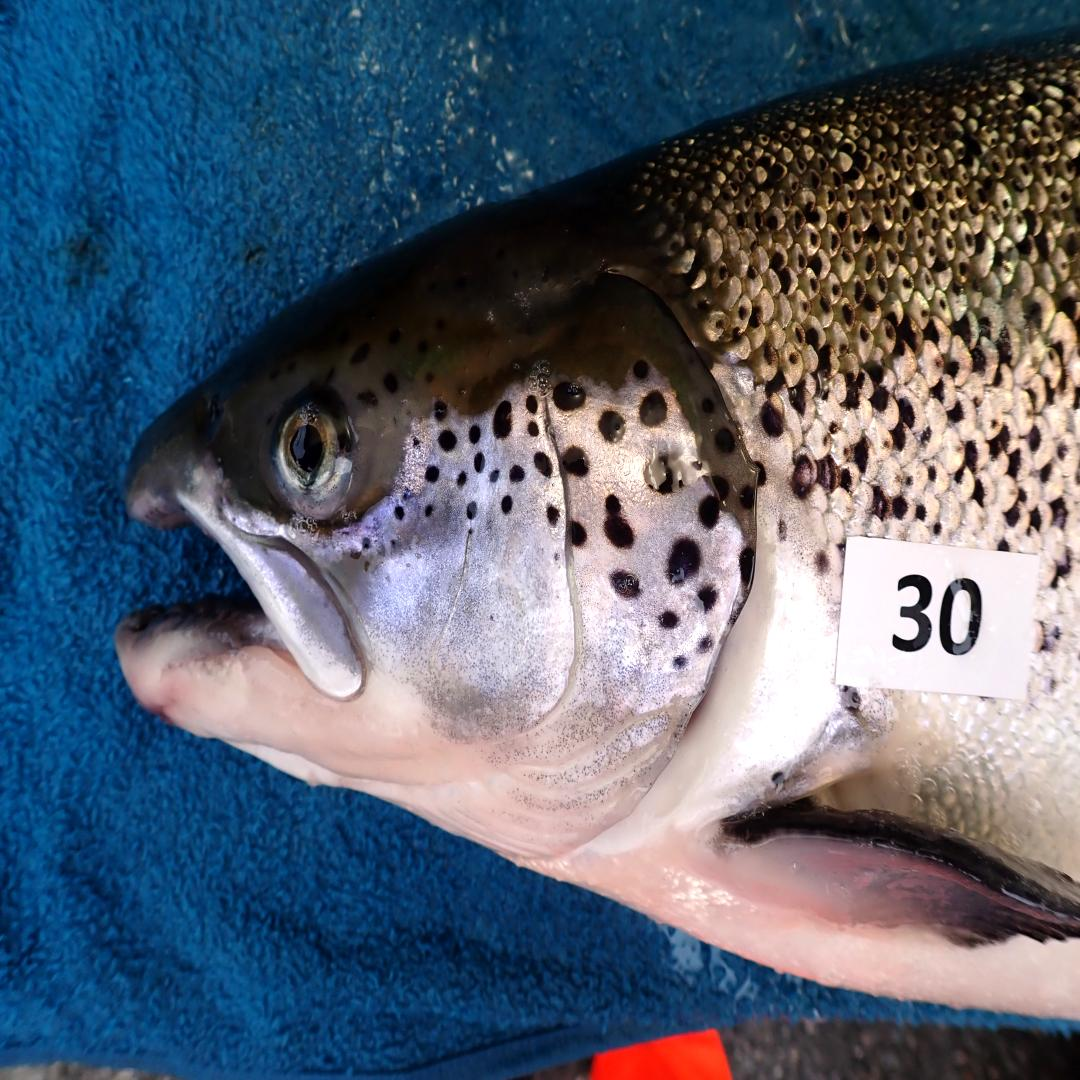roi: (359, 363, 753, 870)
